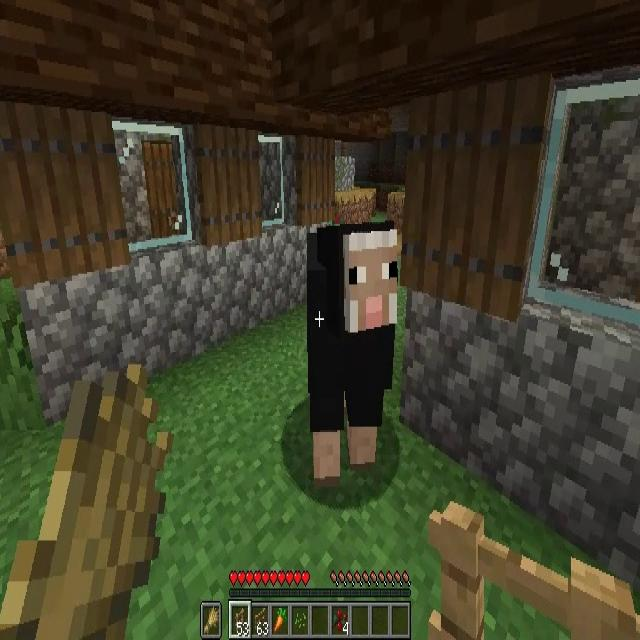sheep: (309, 224, 400, 490)
